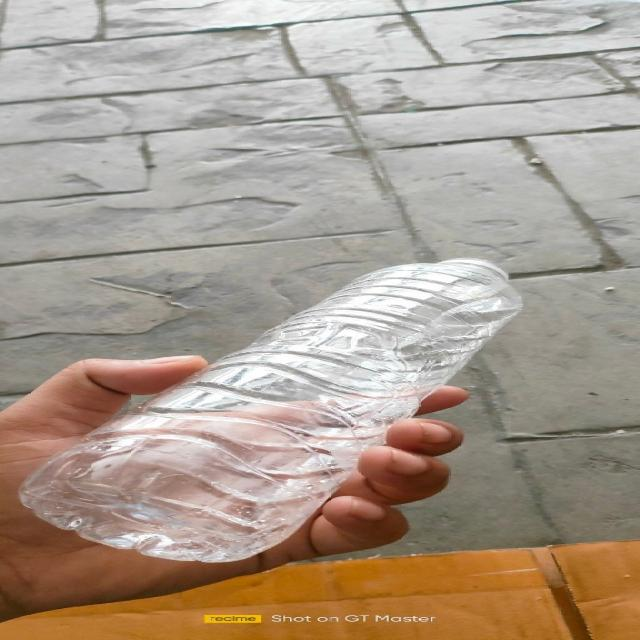plastic_bottle: (17, 258, 524, 562)
